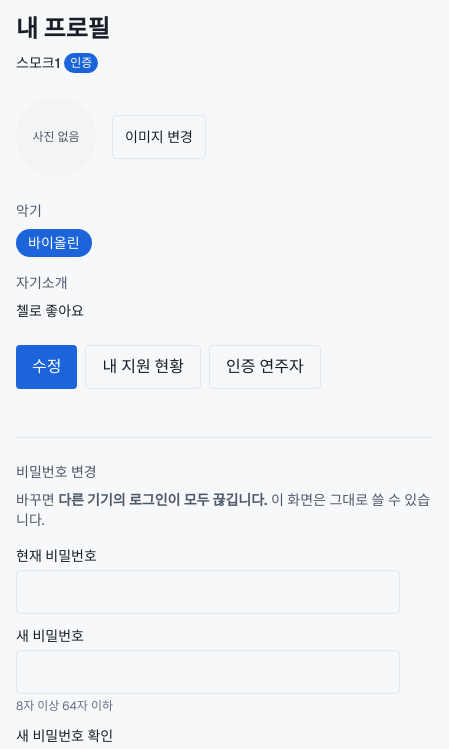
Test: ProfilePage › 저장하면 조회 모드에 반영된다
Click the button "수정": (47, 367) [16, 345, 78, 389]
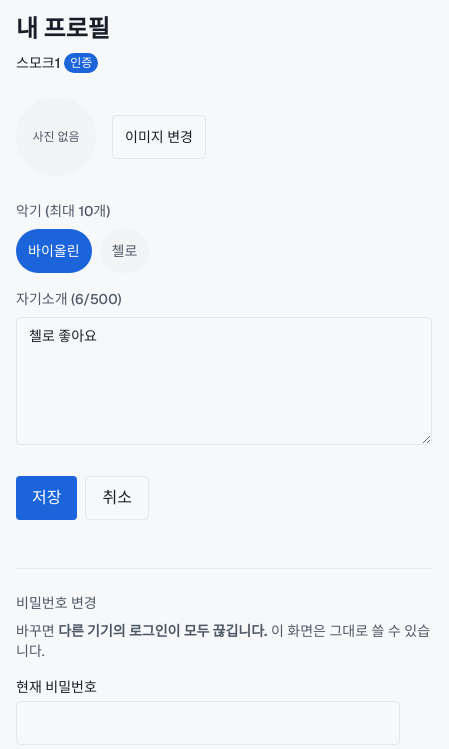
Click the button "첼로": (124, 251) [100, 229, 149, 273]
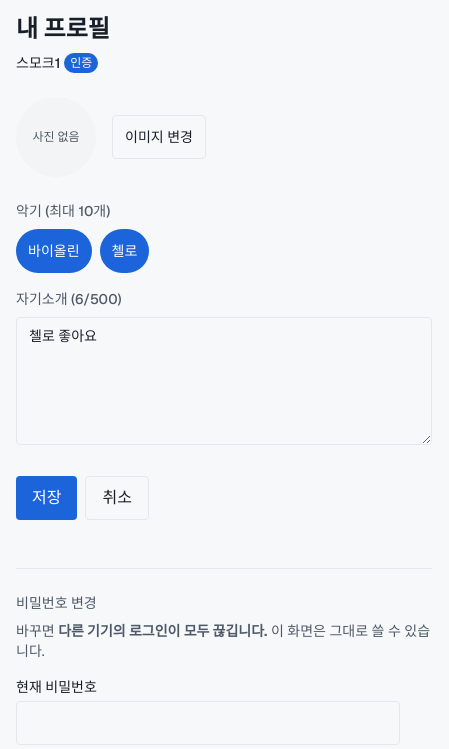
Click the button "저장": (47, 498) [16, 476, 78, 520]
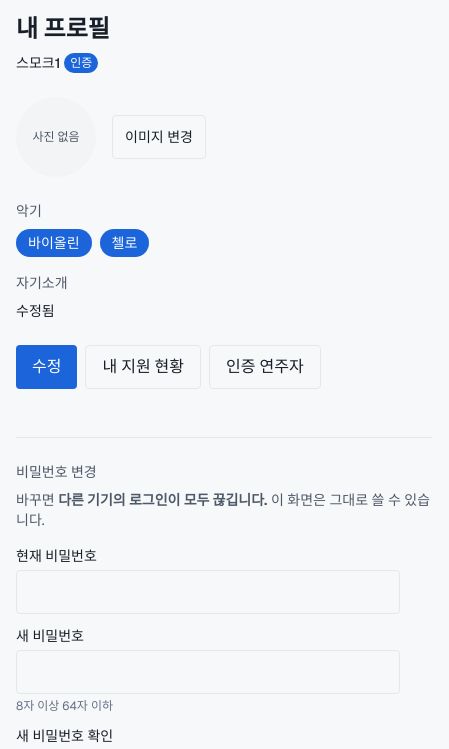
Now the text "수정됨" is shown, box [16, 302, 55, 320]
